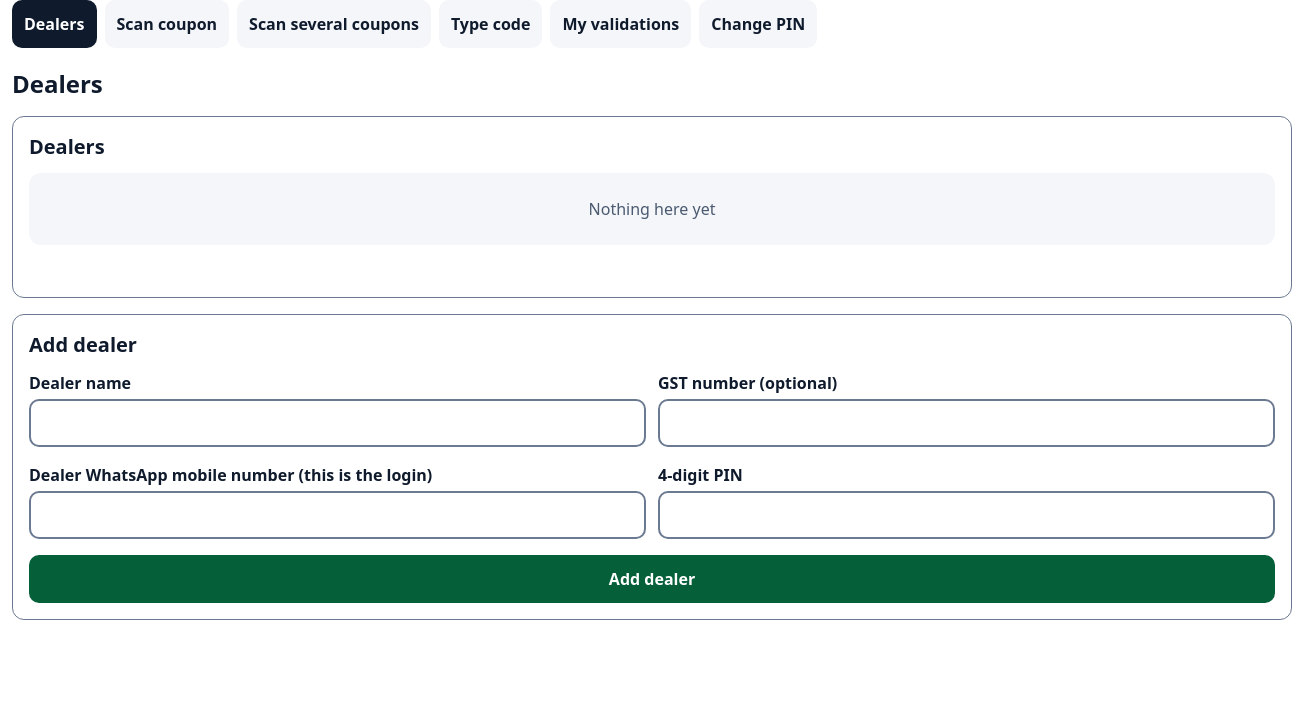
Test: distributor and sales rep: dealers › reports a network failure when adding
Type "Om Paints" into the field labelled "Dealer name" at (338, 423), box [29, 399, 646, 447]
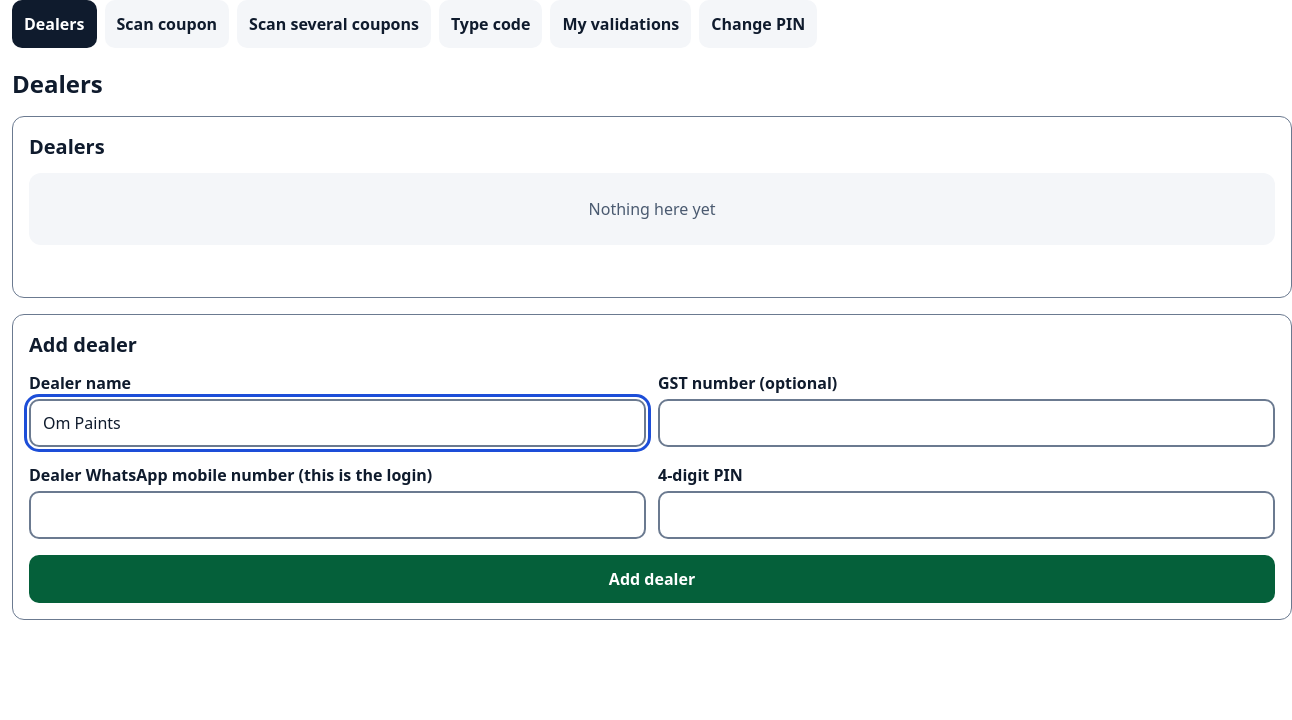
Type "9822200001" into the field labelled "Dealer WhatsApp mobile number (this is the login)" at (338, 515), box [29, 491, 646, 539]
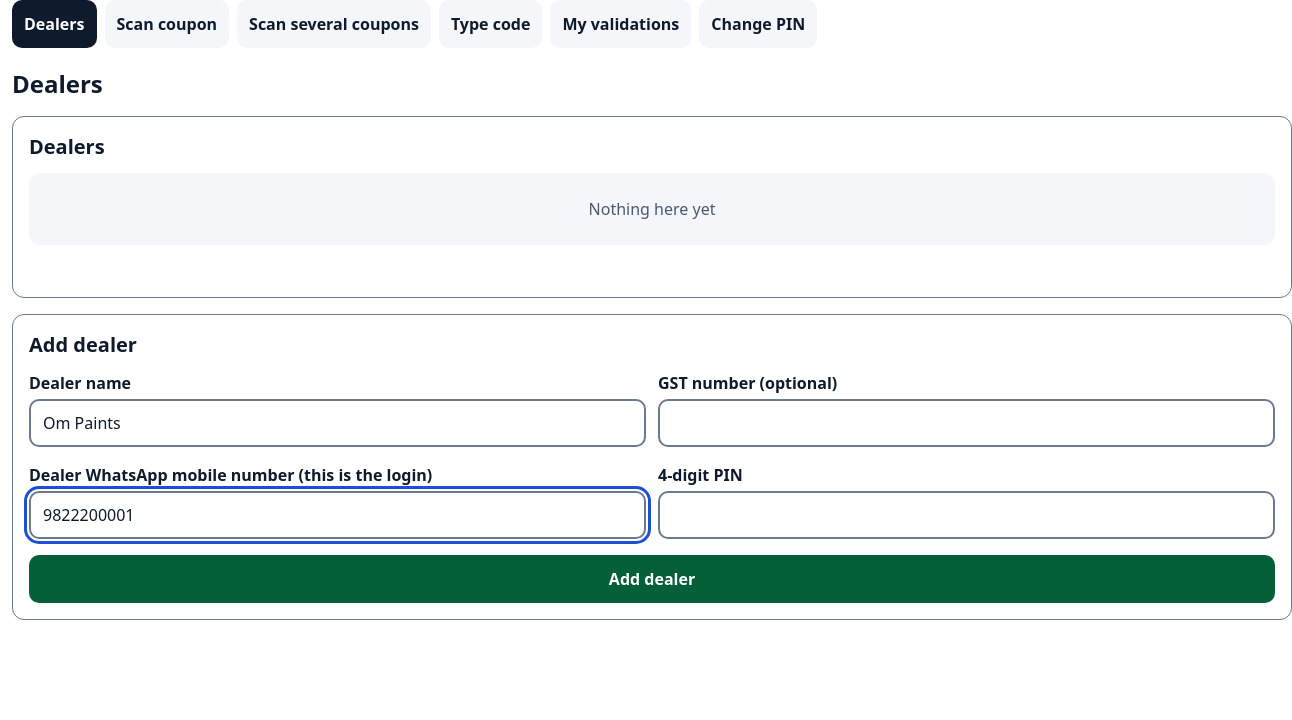
Type "2468" into the password field labelled "4-digit PIN" at (966, 515), box [658, 491, 1275, 539]
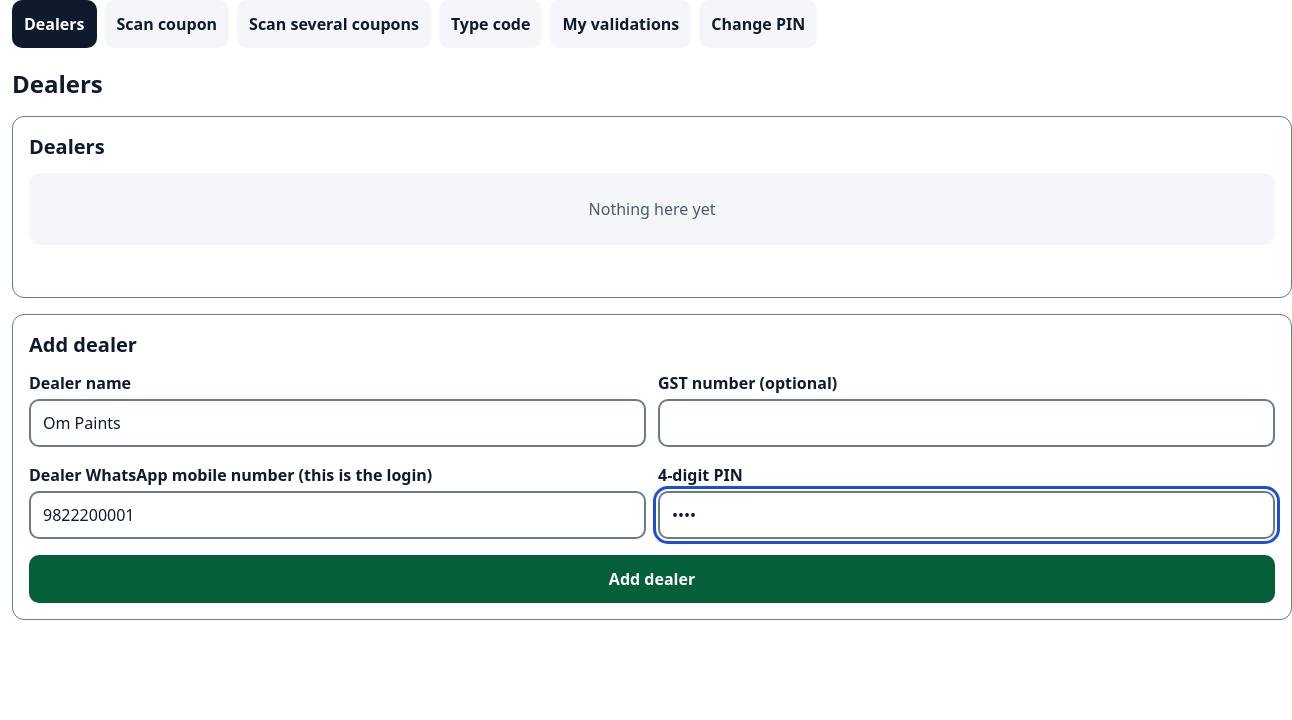
Click the button "Add dealer" at (652, 579), box [29, 555, 1275, 603]
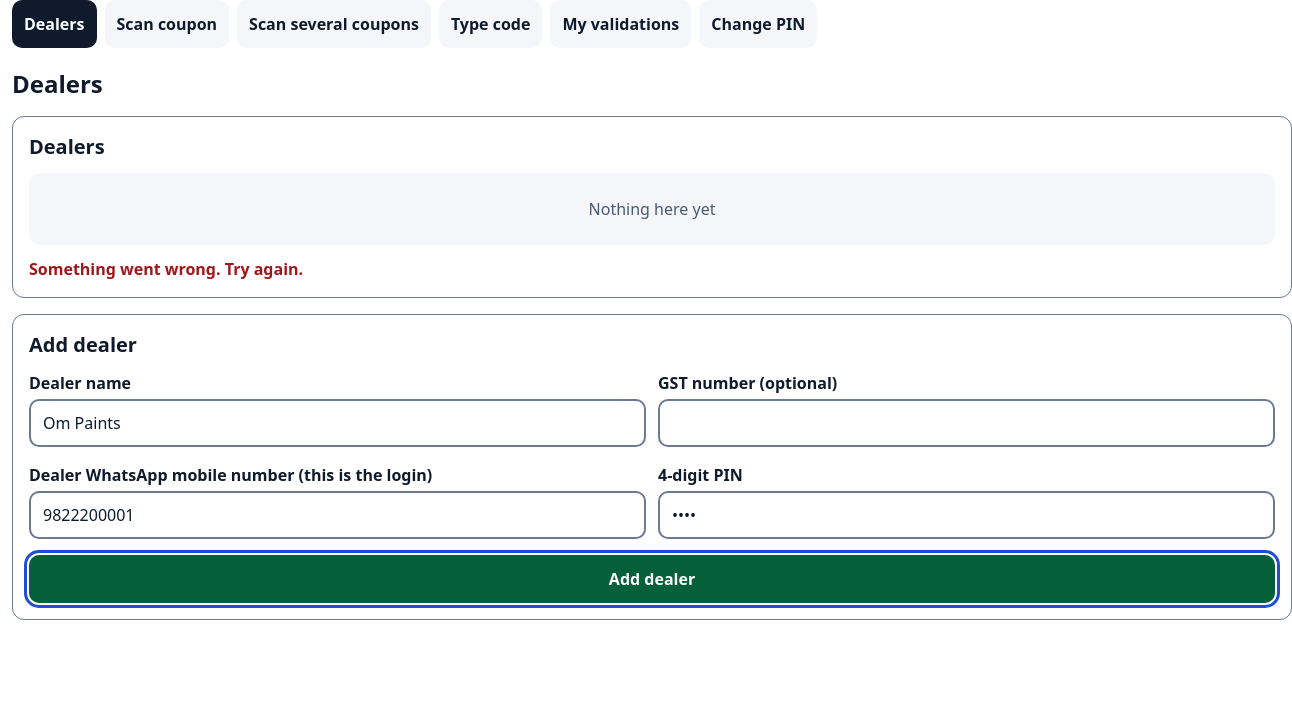
Expected: the text "Something went wrong. Try again." is shown, [29, 258, 303, 280]
